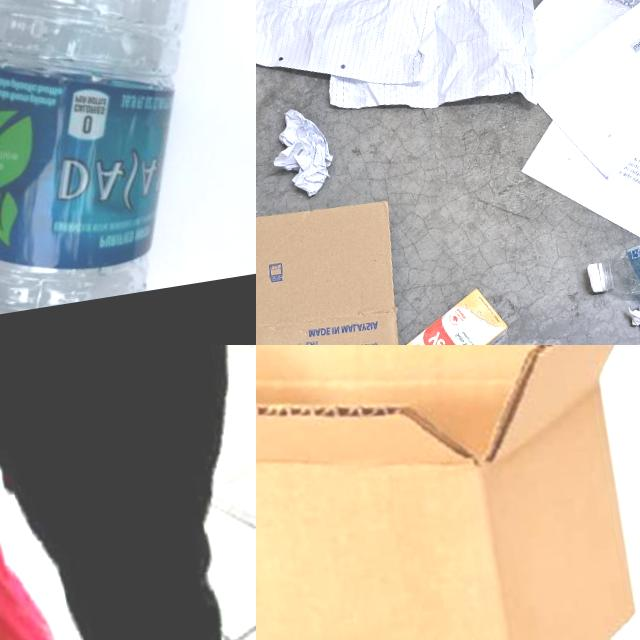caixinha: (388, 285, 518, 345)
garrafa plástica: (256, 345, 640, 640), (0, 0, 256, 324), (576, 189, 640, 296)
papel: (485, 0, 640, 297), (256, 0, 547, 138), (266, 100, 336, 202), (622, 274, 640, 345)
papelão: (256, 193, 441, 345)
sacola plástica: (0, 467, 146, 640)
tampa plástica: (588, 260, 610, 294)
